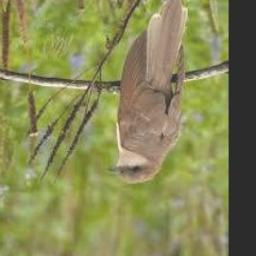Cuckoo: (107, 0, 188, 184)
